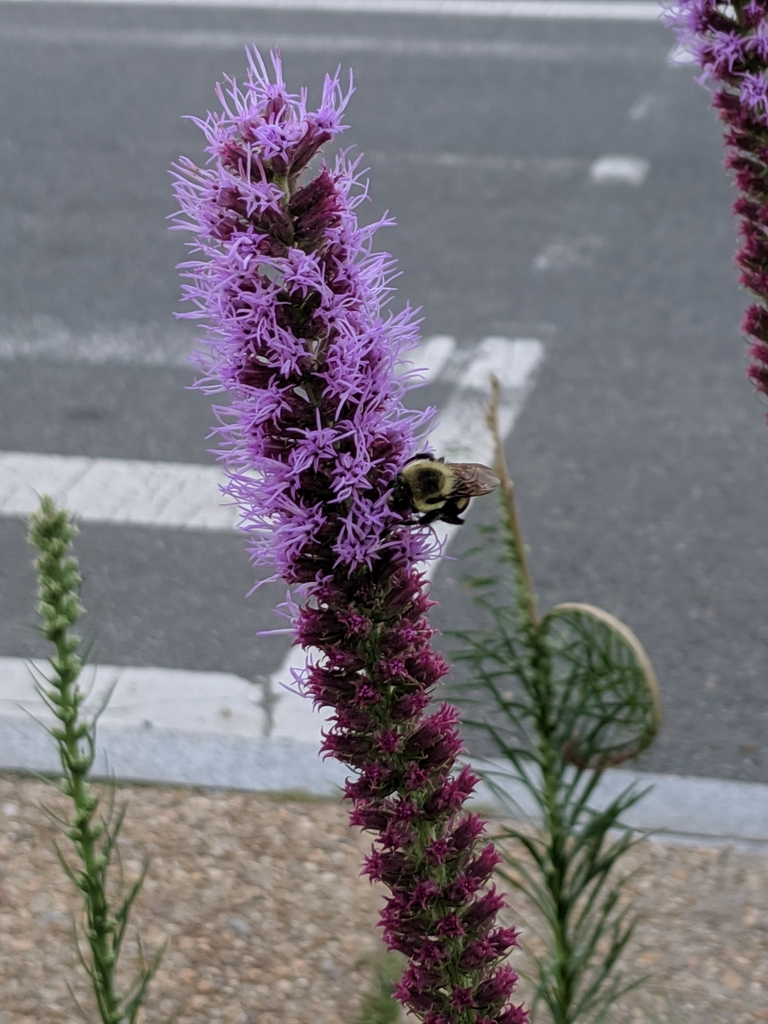bumblebee: (394, 452, 501, 527)
